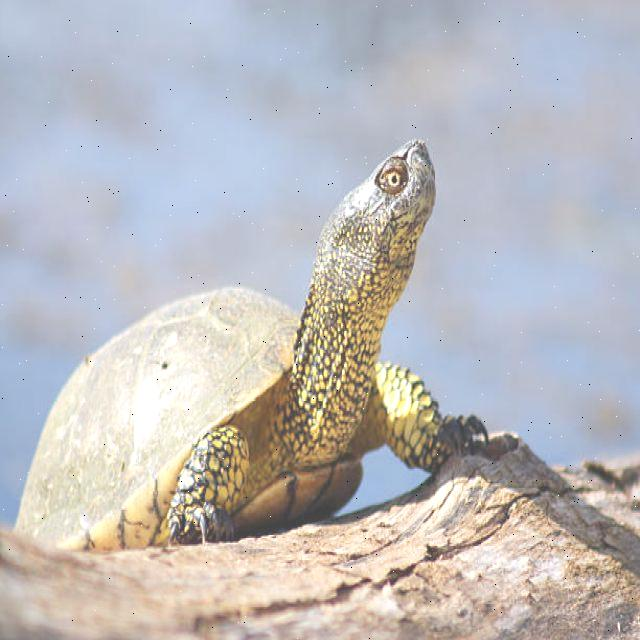tortoise: (27, 141, 460, 534)
